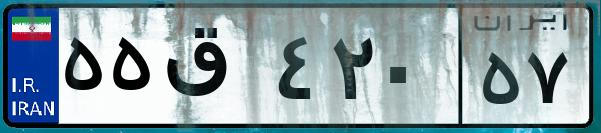0: (385, 28, 445, 110)
2: (330, 28, 385, 110)
4: (270, 28, 330, 110)
5: (57, 26, 110, 100), (475, 38, 525, 113), (110, 28, 158, 98)
7: (525, 38, 570, 115)
ق: (158, 20, 270, 120)
